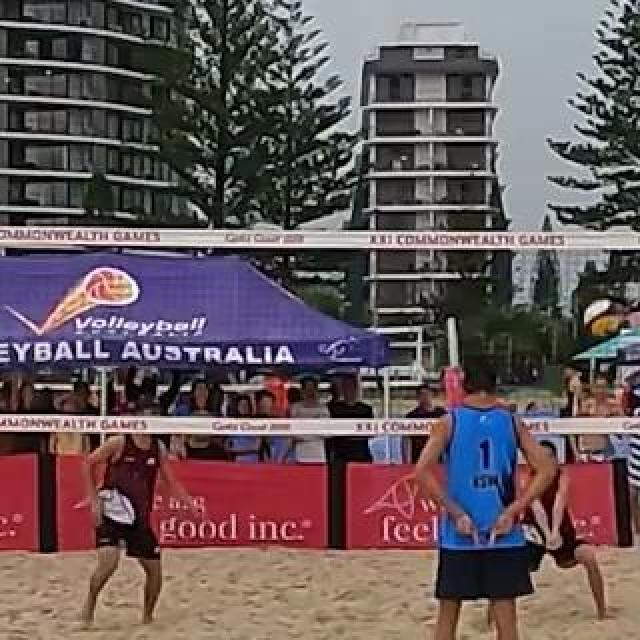volleyball: (582, 301, 620, 337)
